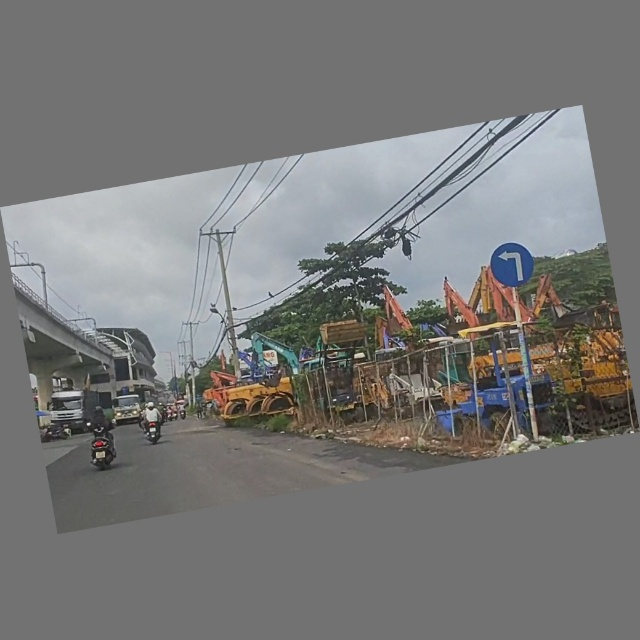R.301e: (487, 239, 538, 291)
